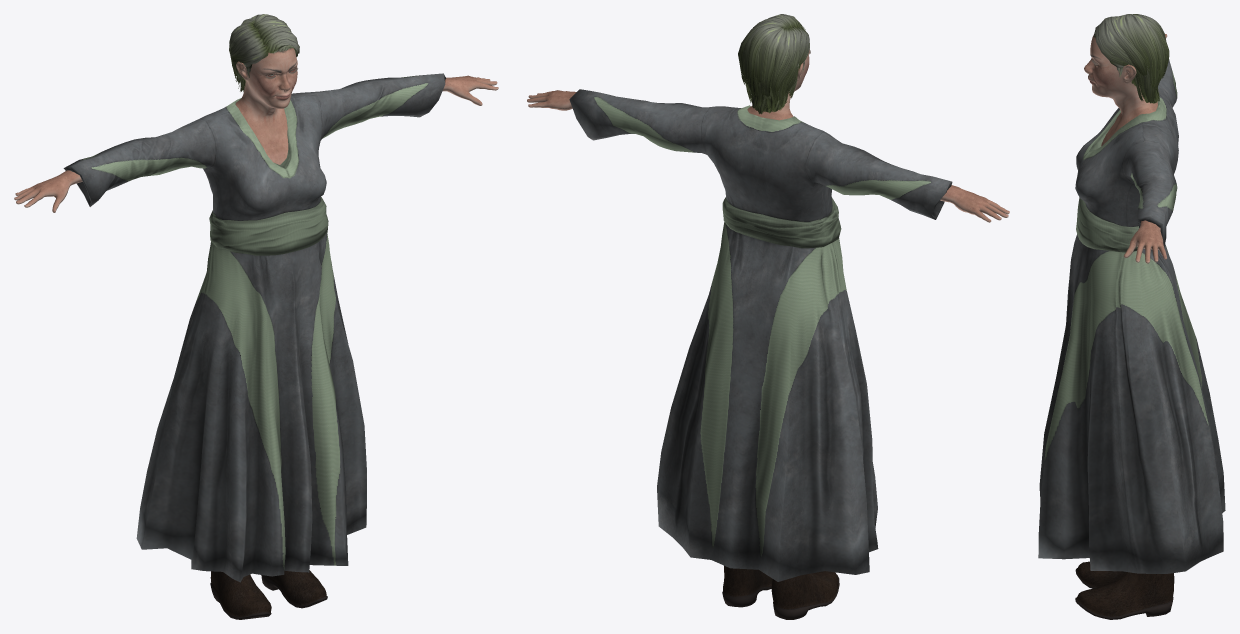
Rendered from female V3.obj.
3 views of the same model, side by side, from view 1: azimuth 30°, elevation 25°; view 2: azimuth 150°, elevation 25°; view 3: azimuth 270°, elevation 25° (orthographic).
Visible parts, largest first — view 1: Tops, Body, Shoes, Hair; view 2: Tops, Hair, Shoes, Body; view 3: Tops, Hair, Shoes, Body.
Part boxes in pixels (<box>): Tops: <box>63,73,446,582</box>; Body: <box>14,32,498,212</box>; Shoes: <box>210,570,327,619</box>; Hair: <box>229,14,299,91</box>; Tops: <box>569,89,952,581</box>; Hair: <box>738,14,809,114</box>; Shoes: <box>722,565,839,619</box>; Body: <box>527,26,1009,222</box>; Tops: <box>1038,59,1225,573</box>; Hair: <box>1094,14,1169,103</box>; Shoes: <box>1075,561,1174,619</box>; Body: <box>1084,33,1167,263</box>.
Bounding box in the file's own units: 155 × 180 × 52.23.
Materials: 4 (4 with a texture image).
